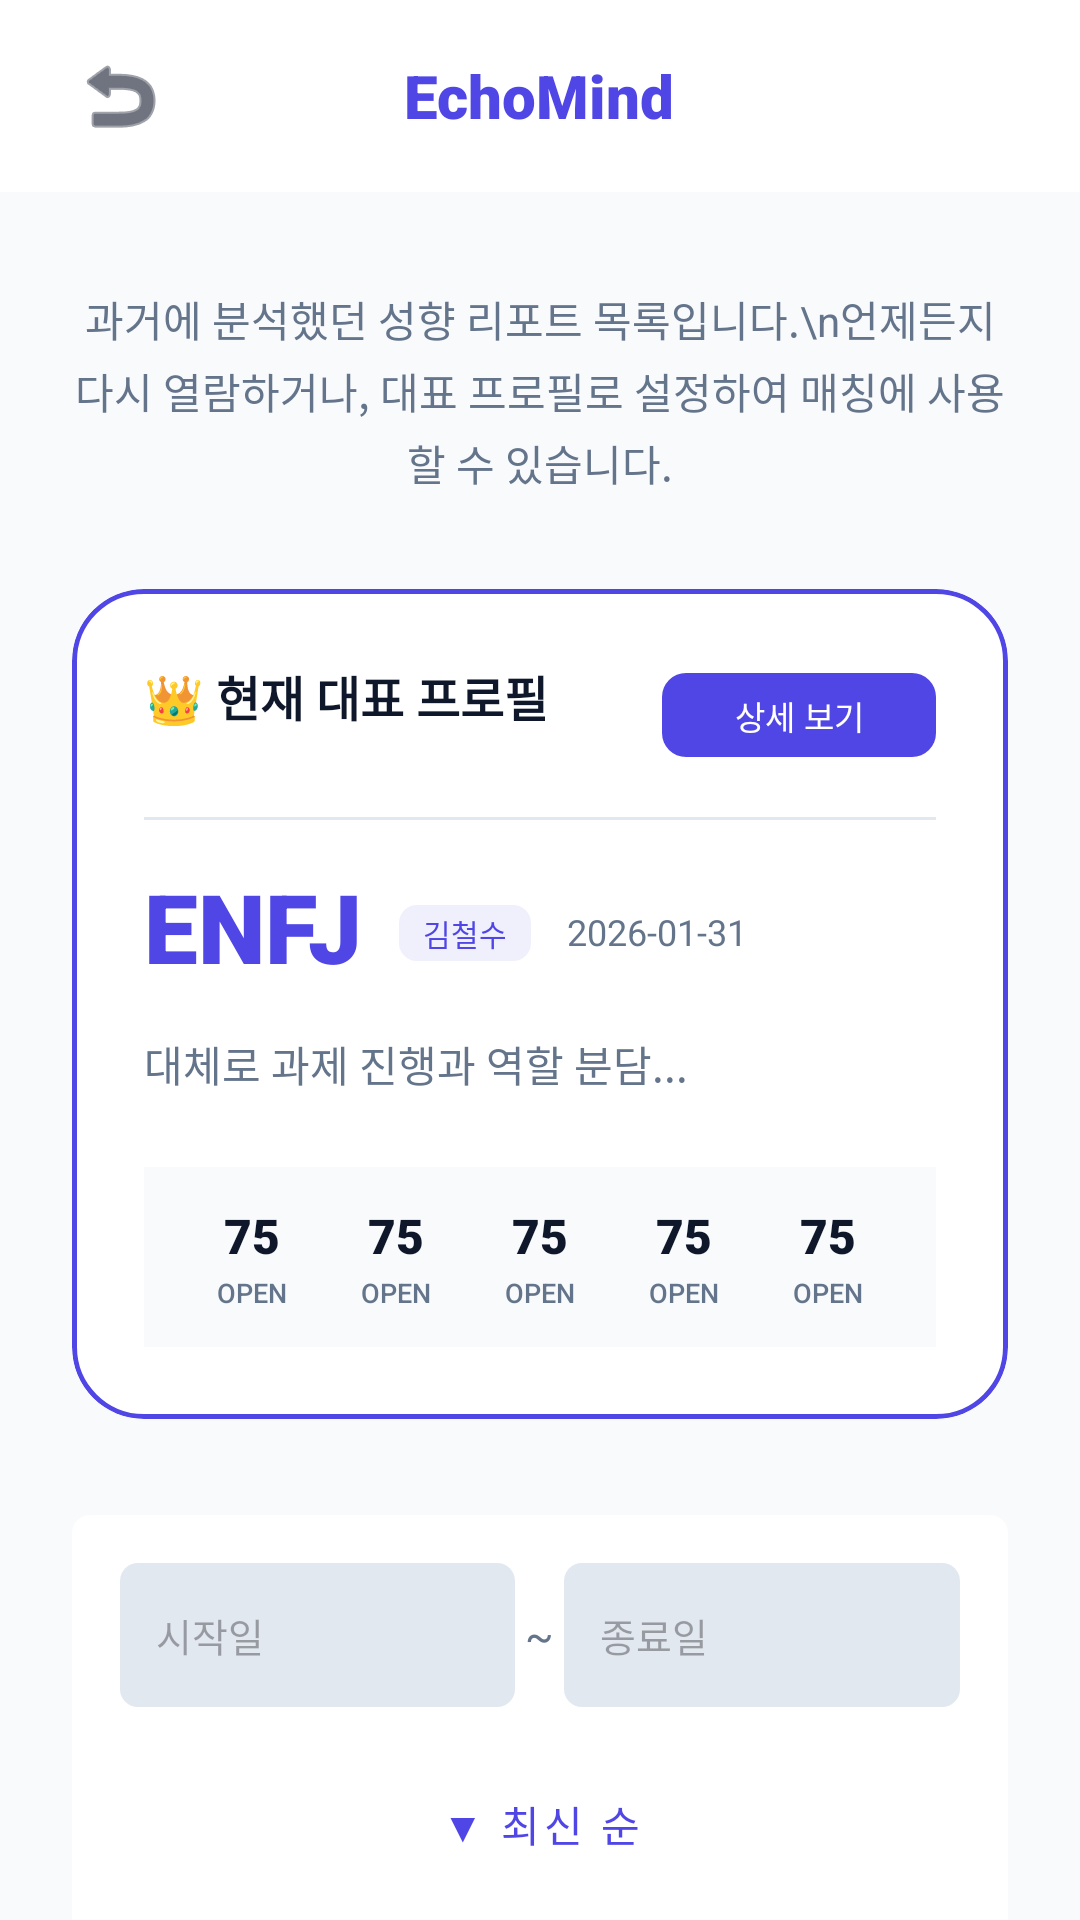

Icons on this 1080×1920 Android screen, each with its box as (x1, y1, x2, y2):
revert: (87, 65, 156, 128)
